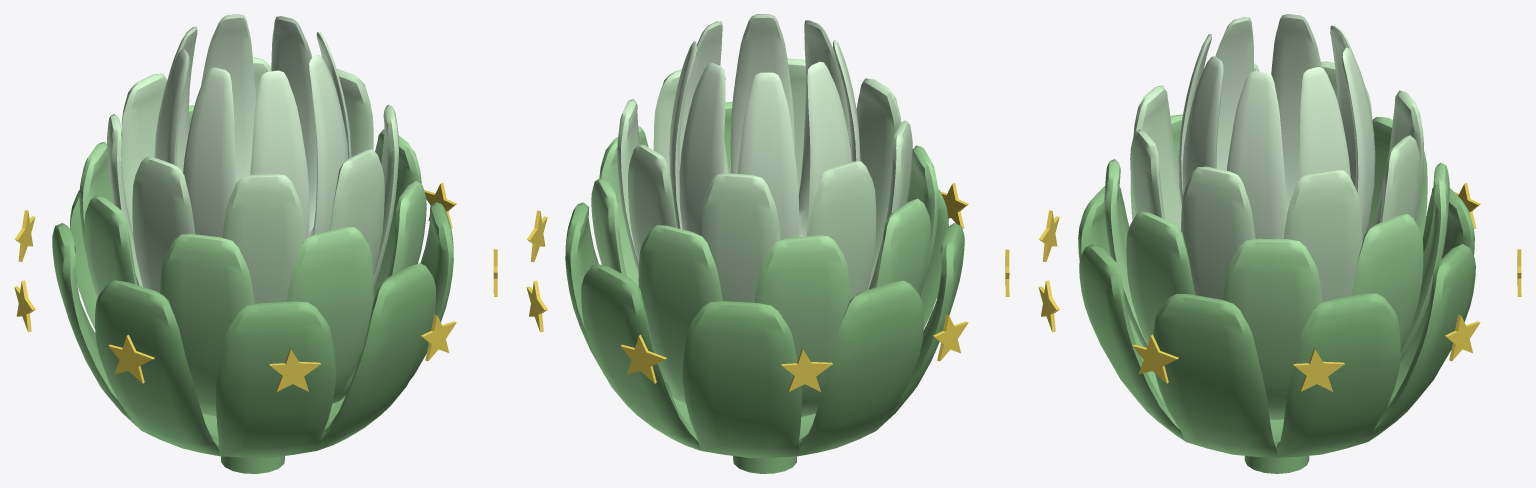
3 views of the same model, side by side, from view 1: azimuth 30°, elevation 25°; view 2: azimuth 150°, elevation 25°; view 3: azimuth 270°, elevation 25° (orthographic).
Visible parts, largest first — view 1: Disc (×4), star02.3 5, star02.2 6, Cylinder, star02.4 4, star02.1 7, star02.4 8; view 2: Disc (×4), star02.4 8, star02.4 0, Cylinder, star02.1 7, star02.3 5, star02.3 1, star02.2 2; view 3: Disc (×4), star02.2 2, star02.1 3, Cylinder, star02.3 1, star02.4 4, star02.3 5.
Boxes of the visible parts, <box> form: Disc (×4): <box>52,14,453,457</box>; star02.3 5: <box>269,348,320,391</box>; star02.2 6: <box>108,335,154,383</box>; Cylinder: <box>221,456,284,473</box>; star02.4 4: <box>421,314,456,361</box>; star02.1 7: <box>14,280,35,332</box>; star02.4 8: <box>14,210,35,261</box>; Disc (×4): <box>565,14,964,457</box>; star02.4 8: <box>781,348,832,391</box>; star02.4 0: <box>620,334,666,383</box>; Cylinder: <box>733,456,796,473</box>; star02.1 7: <box>933,314,968,361</box>; star02.3 5: <box>941,183,968,228</box>; star02.3 1: <box>526,280,547,332</box>; star02.2 2: <box>527,210,547,262</box>; Disc (×4): <box>1078,14,1475,457</box>; star02.2 2: <box>1293,348,1344,391</box>; star02.1 3: <box>1133,334,1178,383</box>; Cylinder: <box>1244,456,1309,473</box>; star02.3 1: <box>1445,314,1480,361</box>; star02.4 4: <box>1038,280,1059,332</box>; star02.3 5: <box>1039,210,1059,261</box>.
Bounding box in the file's own units: 0.0202 × 0.019 × 0.0199.
